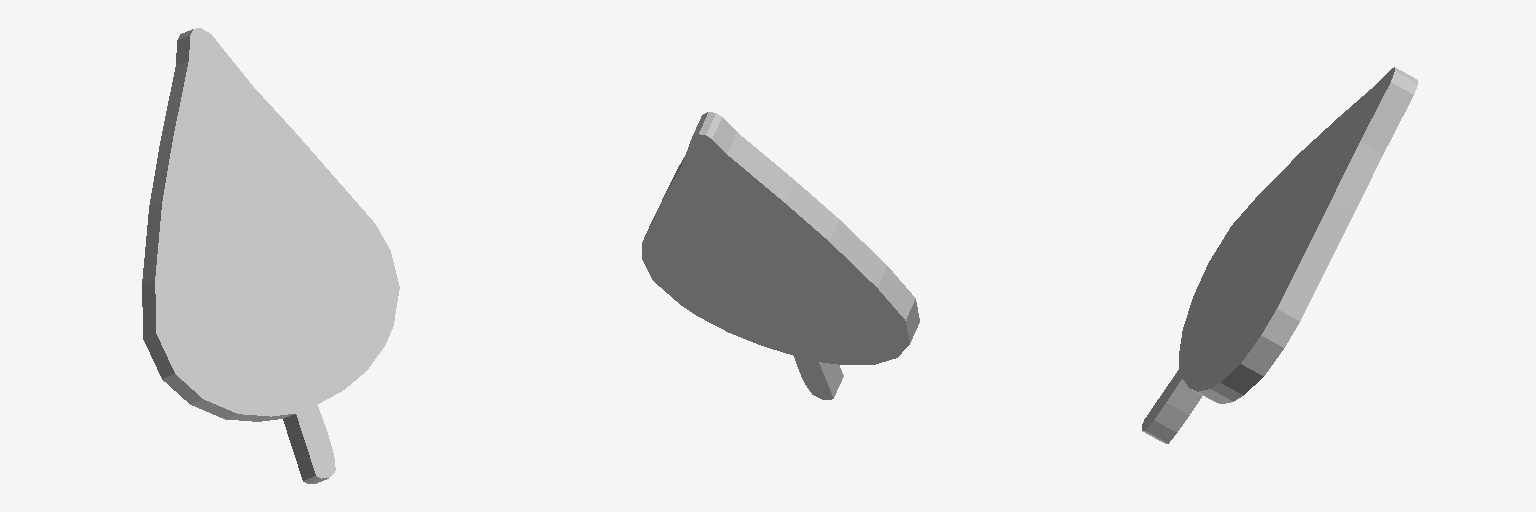
File: nettle_pickup.obj
3 views of the same model, side by side, from view 1: azimuth 30°, elevation 25°; view 2: azimuth 150°, elevation 25°; view 3: azimuth 270°, elevation 25° (orthographic).
Visible parts, largest first — view 1: ikona_pokrzywy_model.005; view 2: ikona_pokrzywy_model.005; view 3: ikona_pokrzywy_model.005.
Boxes of the visible parts, x1=… form: ikona_pokrzywy_model.005: x1=142, y1=28, x2=399, y2=483; ikona_pokrzywy_model.005: x1=642, y1=112, x2=919, y2=399; ikona_pokrzywy_model.005: x1=1142, y1=67, x2=1417, y2=443.
Size of the model in its own units: 1.14 by 1.62 by 1.09.